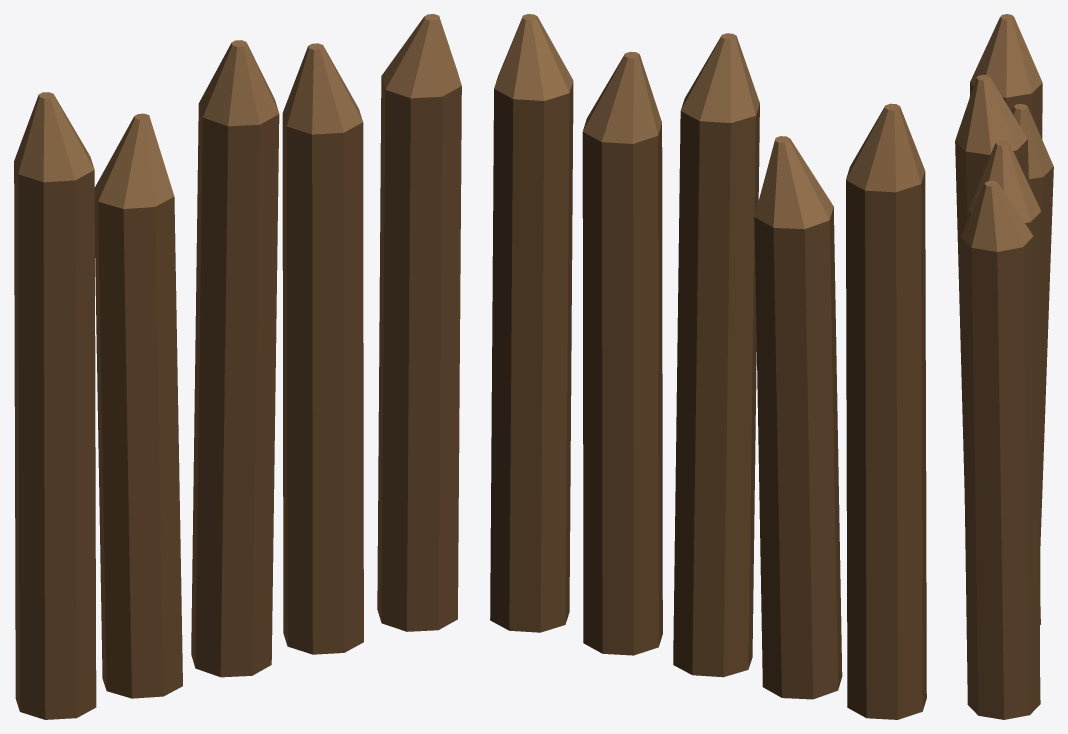
The model's file is cerca.fbx.
3 renders of one model, left to right at view 1: azimuth 30°, elevation 25°; view 2: azimuth 150°, elevation 25°; view 3: azimuth 270°, elevation 25°, orthographic. The views are drawn at different scales.
Visible parts, largest first — view 1: Cylinder; view 2: Cylinder; view 3: Cylinder.
Boxes of the visible parts, <box> form: Cylinder: <box>14,14,461,719</box>; Cylinder: <box>490,14,926,719</box>; Cylinder: <box>955,14,1053,719</box>.
Bounding box in the file's own units: 1202 × 1659 × 272.
